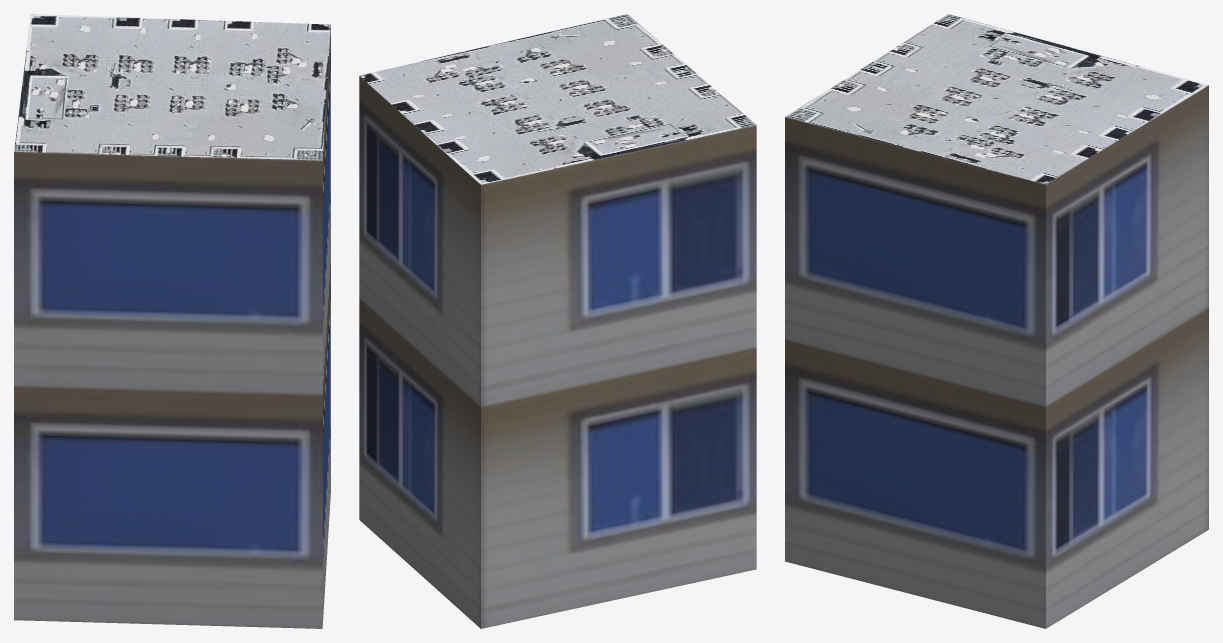
The model's file is ResTex__4476.fbx.
3 renders of one model, left to right at view 1: azimuth 30°, elevation 25°; view 2: azimuth 150°, elevation 25°; view 3: azimuth 270°, elevation 25°, orthographic. The views are drawn at different scales.
Parts seen in each view (by area): view 1: CityEngineMaterial_23_m, CityEngineMaterial_4_m; view 2: CityEngineMaterial_23_m, CityEngineMaterial_4_m; view 3: CityEngineMaterial_23_m, CityEngineMaterial_4_m.
Part boxes in pixels (left/top/right/bottom): CityEngineMaterial_23_m: left=14, top=26, right=330, bottom=628; CityEngineMaterial_4_m: left=14, top=14, right=330, bottom=160; CityEngineMaterial_23_m: left=359, top=76, right=756, bottom=628; CityEngineMaterial_4_m: left=359, top=14, right=756, bottom=184; CityEngineMaterial_23_m: left=785, top=85, right=1208, bottom=628; CityEngineMaterial_4_m: left=785, top=14, right=1208, bottom=184.
Bounding box in the file's own units: 4.93 × 6 × 5.18.
Materials: 2 (2 with a texture image).
